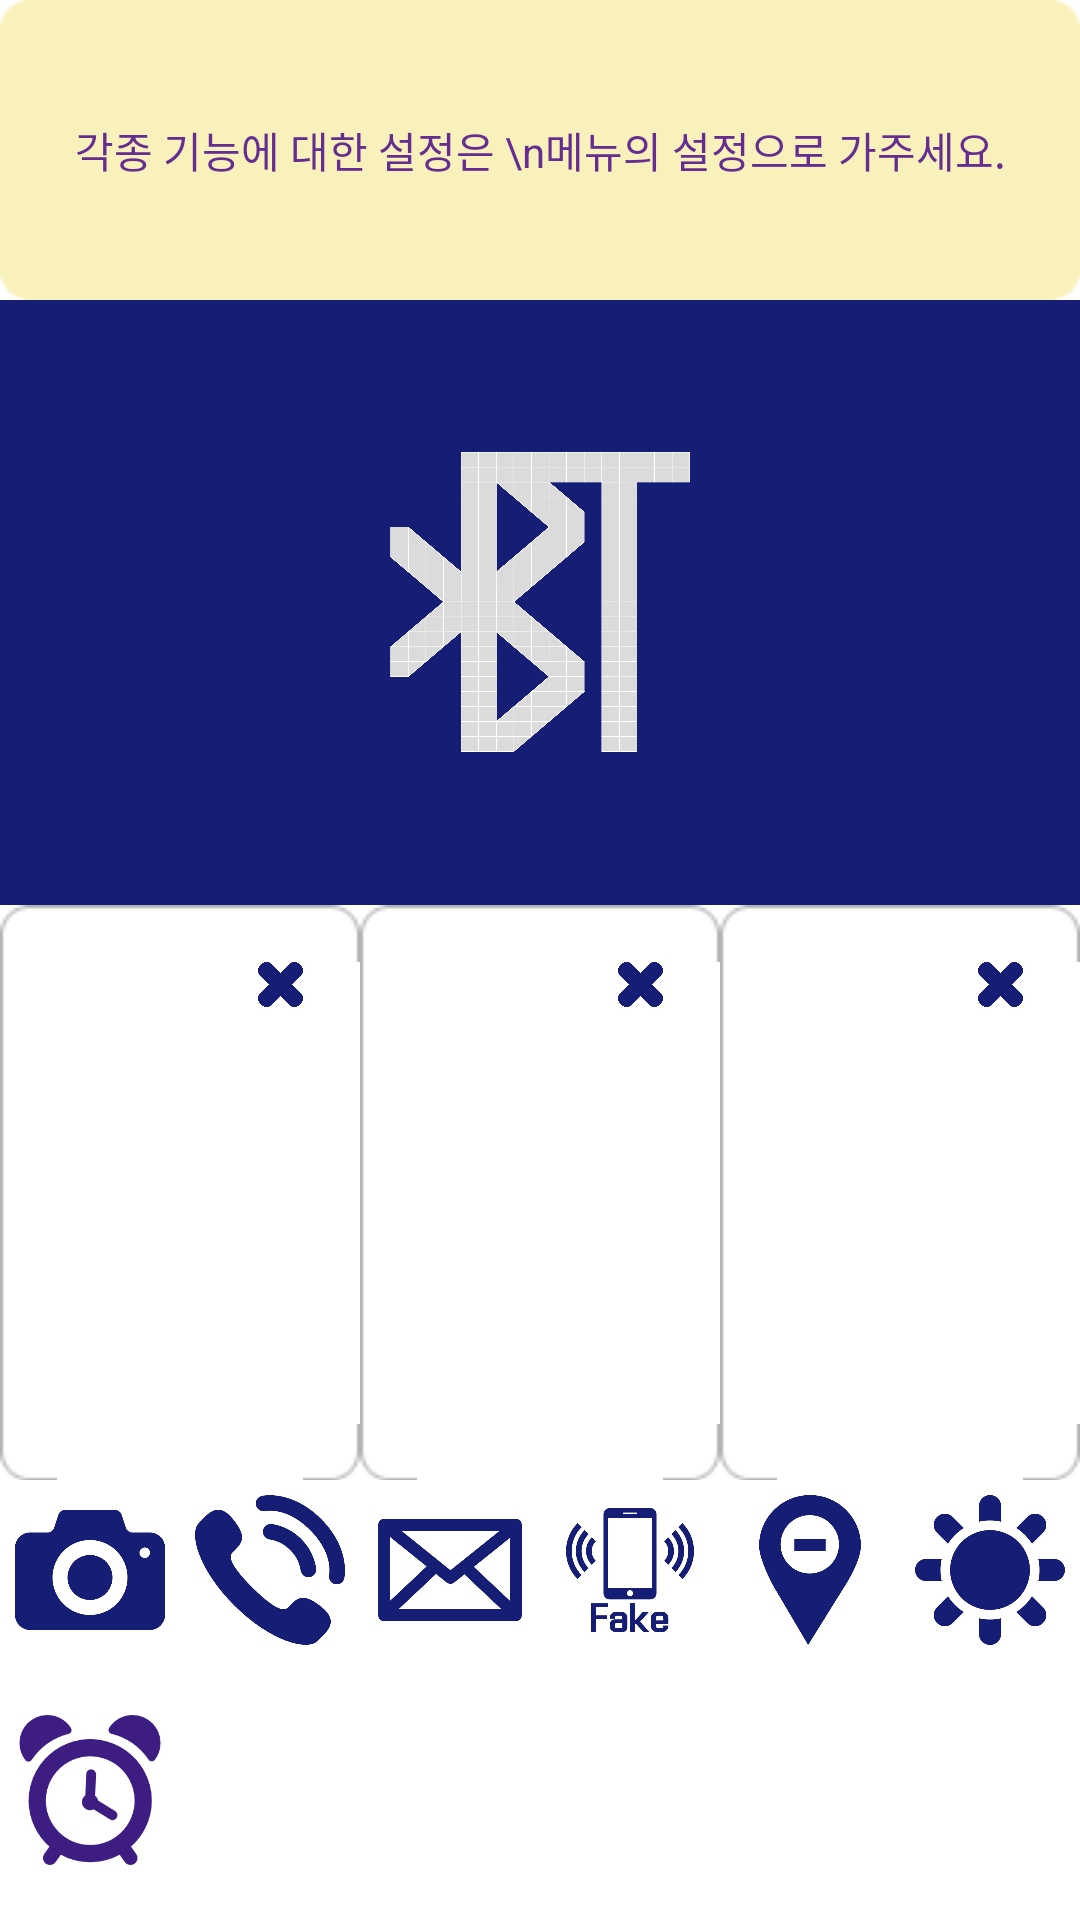

Named icons in this screenshot (1080*1920) and their bounding boxes, Rect(x1, y1, x2, y2):
clock: Rect(19, 1715, 161, 1865)
fake call: Rect(566, 1508, 694, 1632)
mail: Rect(378, 1519, 522, 1621)
sun: Rect(915, 1495, 1065, 1645)
telephone: Rect(195, 1495, 345, 1645)
